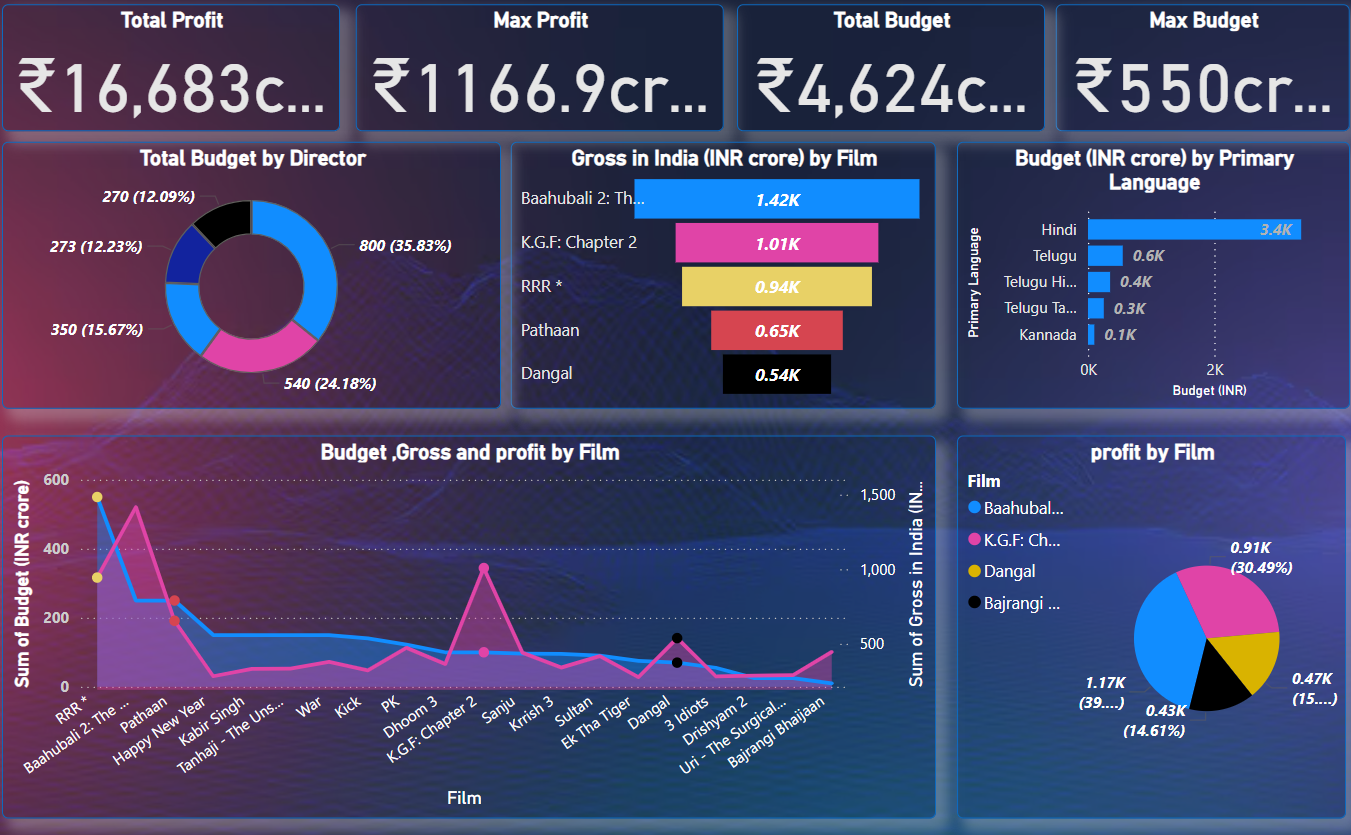

Layout of this report page (visuals, bound fields, positions):
{"tool":"powerbi","page":{"name":"Page 2","canvas":[1100,680],"ordinal":1},"visuals":[{"type":"card","title":"Total Profit ","fields":{"Values":["Highest grossing Indian movies.Total_profit"]},"box":[12,9,270,102],"z":0},{"type":"card","title":"Max Profit","fields":{"Values":["Highest grossing Indian movies.Max_profit"]},"box":[295,9,294,102],"z":1000},{"type":"card","title":"Max Budget","fields":{"Values":["Highest grossing Indian movies.Max_budget"]},"box":[855,9,235,102],"z":2000},{"type":"card","title":"Total Budget","fields":{"Values":["Highest grossing Indian movies.Total_budget"]},"box":[600,9,246,102],"z":3000},{"type":"barChart","title":" Budget (INR crore) by Primary Language","fields":{"Category":["Highest grossing Indian movies.Primary Language"],"Y":["Sum(Highest grossing Indian movies.Budget (INR crore))"]},"box":[776,119,314,214],"z":4000},{"type":"funnel","title":" Gross in India (INR crore) by Film","fields":{"Category":["Highest grossing Indian movies.Film"],"Y":["Sum(Highest grossing Indian movies.Gross in India (INR crore))"]},"box":[419,119,340,214],"z":5000},{"type":"lineChart","title":"Budget ,Gross and profit by Film","fields":{"Y2":["Sum(Highest grossing Indian movies.Gross in India (INR crore))"],"Y":["Sum(Highest grossing Indian movies.Budget (INR crore))"],"Category":["Highest grossing Indian movies.Film"]},"box":[12,354,747,307],"z":6000},{"type":"pieChart","title":" profit by Film","fields":{"Category":["Highest grossing Indian movies.Film"],"Y":["Sum(Highest grossing Indian movies.profit)"]},"box":[776,354,311,307],"z":7000},{"type":"donutChart","title":"Total Budget  by Director","fields":{"Category":["Highest grossing Indian movies.Director"],"Y":["Sum(Highest grossing Indian movies.Budget (INR crore))"]},"box":[12,119,399,214],"z":8000}]}

Visuals, with their boxes in screenshot pixels (x1, y1, x2, y2), scaled from the page's 1100x680 canvas onto the 1351x835 screenshot:
"Total Profit " card: bbox(15, 11, 346, 136)
"Max Profit" card: bbox(362, 11, 723, 136)
"Max Budget" card: bbox(1050, 11, 1339, 136)
"Total Budget" card: bbox(737, 11, 1039, 136)
" Budget (INR crore) by Primary Language" barChart: bbox(953, 146, 1339, 409)
" Gross in India (INR crore) by Film" funnel: bbox(515, 146, 932, 409)
"Budget ,Gross and profit by Film" lineChart: bbox(15, 435, 932, 812)
" profit by Film" pieChart: bbox(953, 435, 1335, 812)
"Total Budget  by Director" donutChart: bbox(15, 146, 505, 409)
